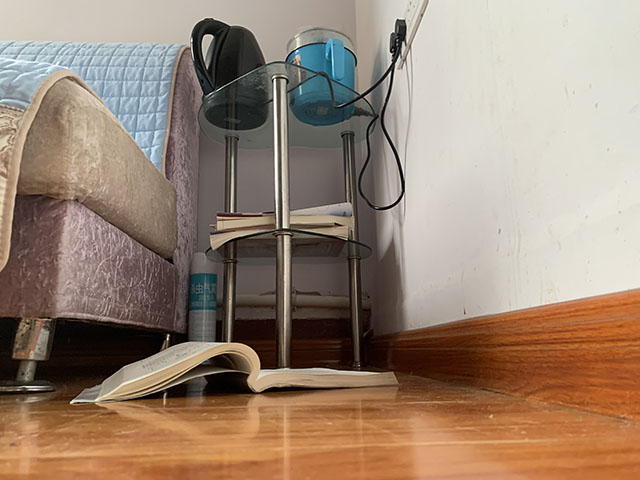book: (66, 340, 401, 405)
sofa: (1, 38, 203, 395)
table: (195, 56, 378, 374)
